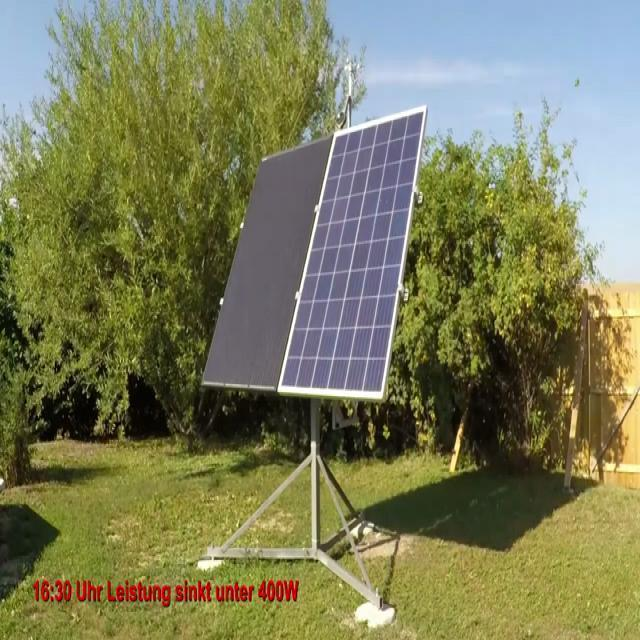Normal Solar Panel: (203, 105, 428, 400)
